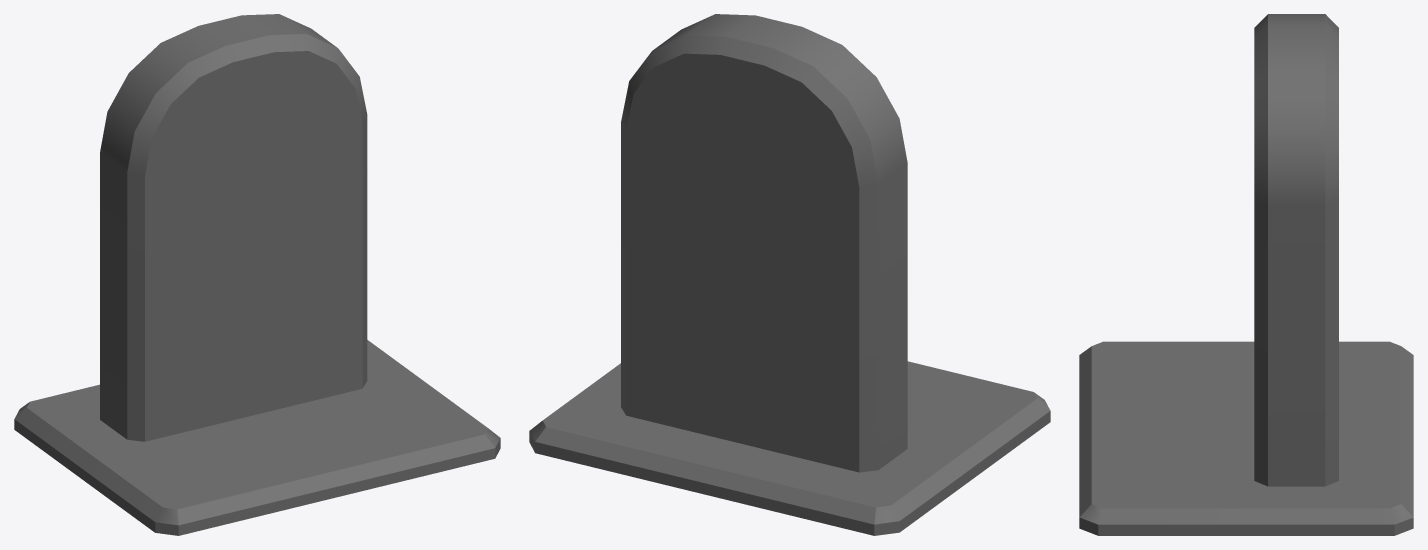
Rendered from Gravestone_1.fbx.
3 renders of one model, left to right at view 1: azimuth 30°, elevation 25°; view 2: azimuth 150°, elevation 25°; view 3: azimuth 270°, elevation 25°, orthographic. The views are drawn at different scales.
Parts seen in each view (by area): view 1: Gravestone_1; view 2: Gravestone_1; view 3: Gravestone_1.
Boxes of the visible parts, box(x1,y1,x2,y2) form: Gravestone_1: box(14, 14, 500, 535); Gravestone_1: box(529, 14, 1050, 535); Gravestone_1: box(1079, 14, 1413, 535).
Bounding box in the file's own units: 35.96 × 38.91 × 28.66.
